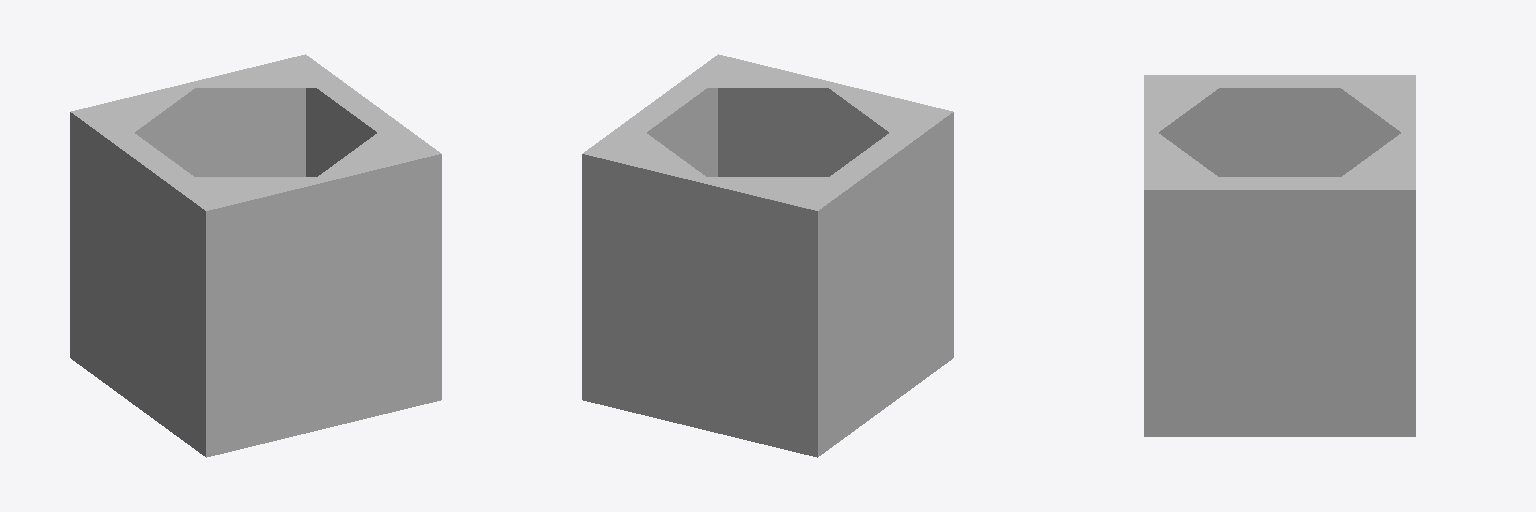
The model's file is Hexagon_cube_bottle_base_preprocessed.obj.
The picture shows the model from 3 angles: view 1: azimuth 30°, elevation 25°; view 2: azimuth 150°, elevation 25°; view 3: azimuth 270°, elevation 25°; orthographic projection.
Bounding box in the file's own units: 0.08 × 0.08 × 0.08.